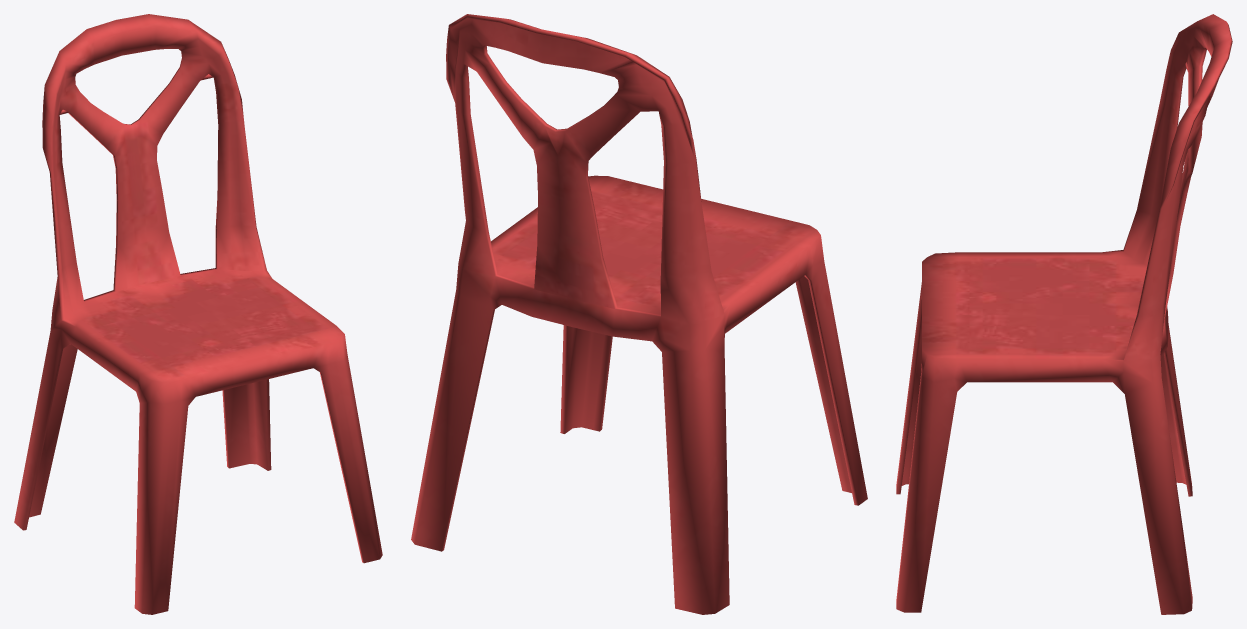
File: plastic_armchair.glb
3 views of the same model, side by side, from view 1: azimuth 30°, elevation 25°; view 2: azimuth 150°, elevation 25°; view 3: azimuth 270°, elevation 25° (orthographic). The views are drawn at different scales.
Parts seen in each view (by area): view 1: plastic_armchair; view 2: plastic_armchair; view 3: plastic_armchair.
Boxes of the visible parts, x1,y1,x2,y2 form: plastic_armchair: [14, 14, 382, 614]; plastic_armchair: [411, 14, 867, 614]; plastic_armchair: [896, 14, 1232, 614].
Bounding box in the file's own units: 0.5105 × 0.9 × 0.5382.
1 material, 1 textured.
